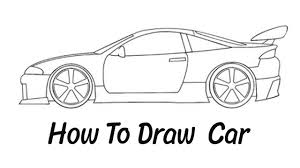car: (9, 18, 294, 116)
